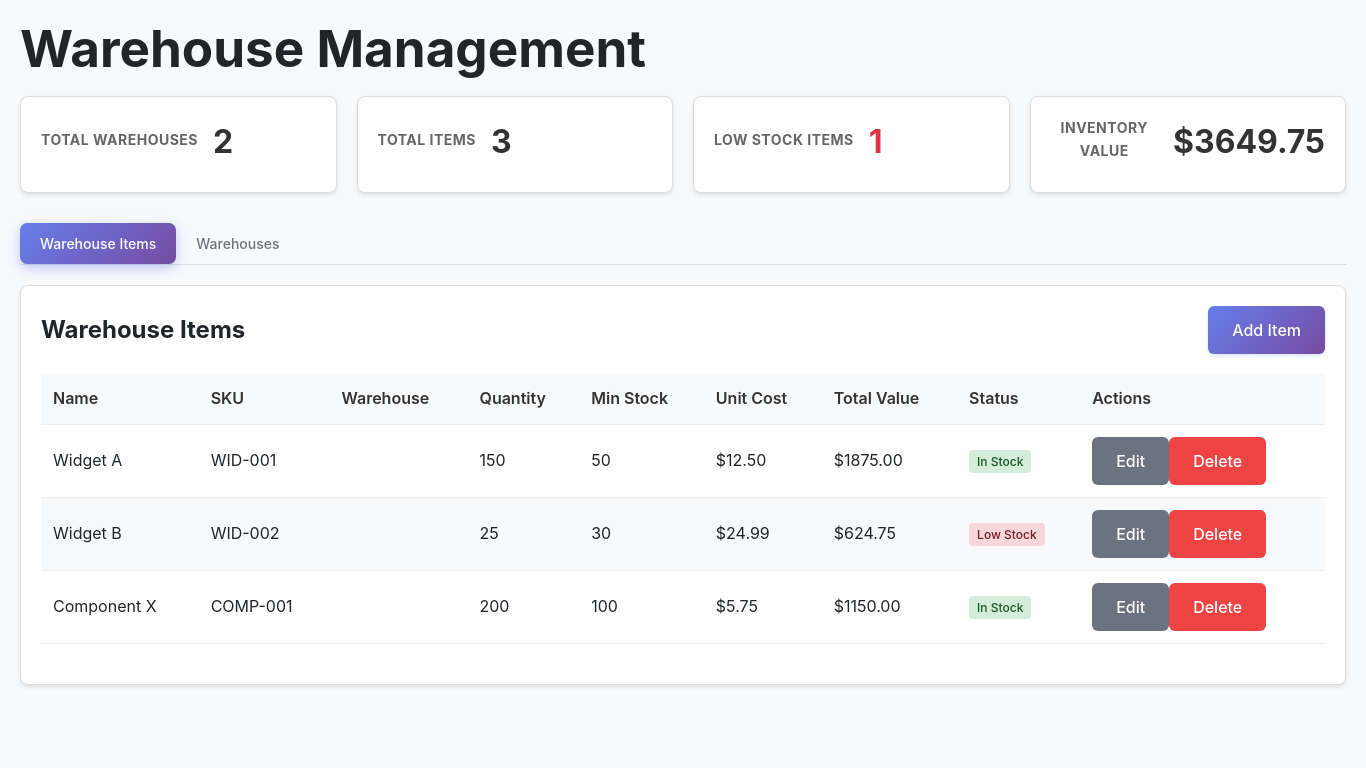
Test case: Warehouse Component - REQ-301.1 › Tab Navigation › shows correct content for warehouses tab
The image size is (1366, 768).
Click the button "Warehouses".
click(238, 244)  # box [176, 223, 300, 264]
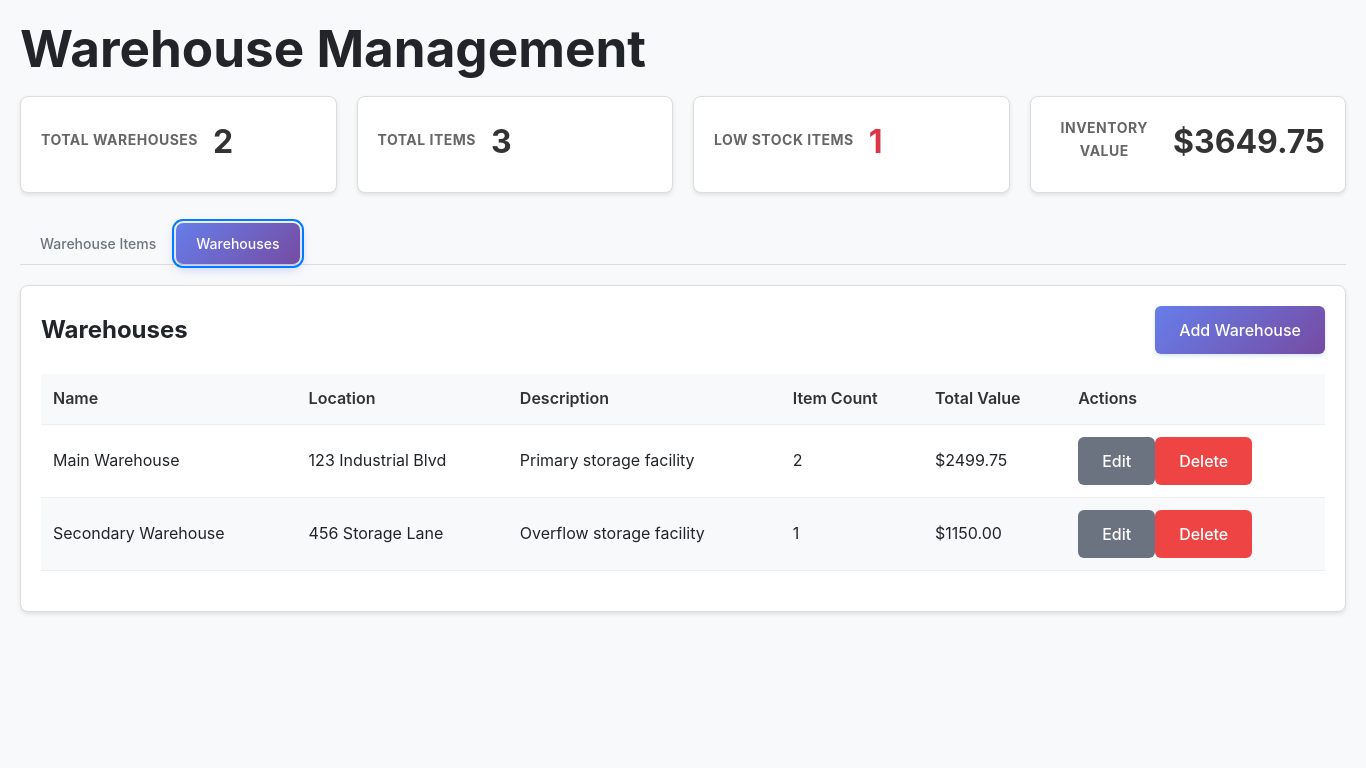
Expected: the text "Main Warehouse" is shown, [41, 424, 297, 497]
Expected: the text "Secondary Warehouse" is shown, [41, 497, 297, 570]
